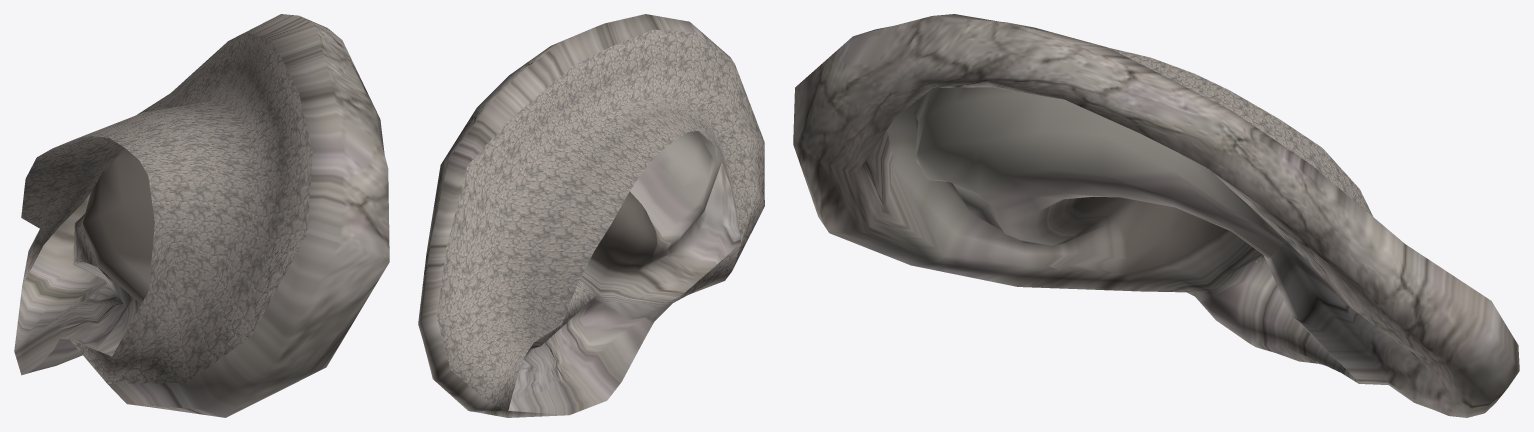
File: soldierear.fbx
3 views of the same model, side by side, from view 1: azimuth 30°, elevation 25°; view 2: azimuth 150°, elevation 25°; view 3: azimuth 270°, elevation 25° (orthographic). The views are drawn at different scales.
Parts seen in each view (by area): view 1: naziear:polySurface1; view 2: naziear:polySurface1; view 3: naziear:polySurface1.
Part boxes in pixels (x1=…): naziear:polySurface1: x1=14, y1=14, x2=389, y2=417; naziear:polySurface1: x1=418, y1=14, x2=764, y2=417; naziear:polySurface1: x1=793, y1=14, x2=1519, y2=417.
Bounding box in the file's own units: 0.7406 × 0.9377 × 1.45.
